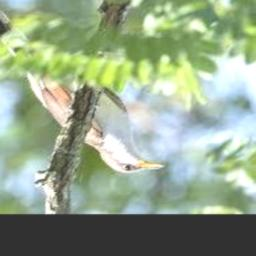Cuckoo: (0, 0, 166, 173)
